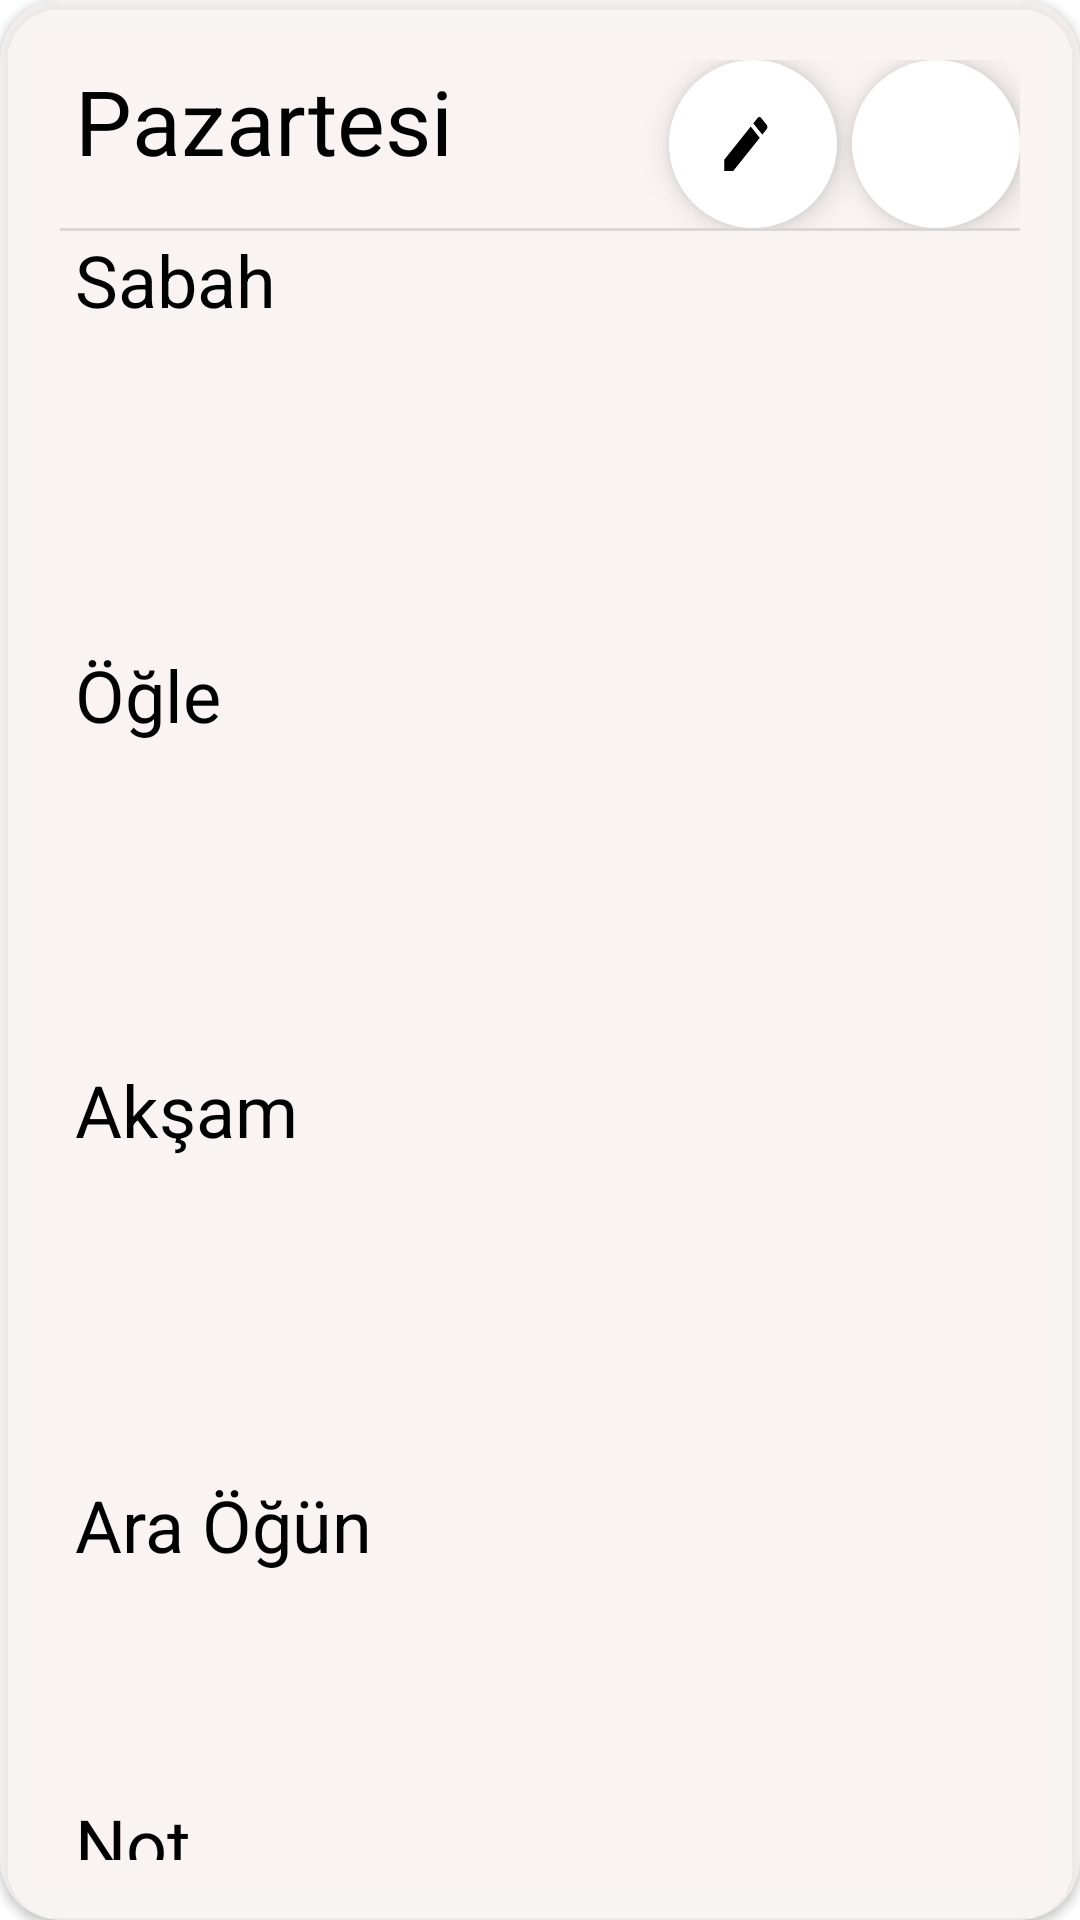

Screen size 1080 × 1920. Icon name, then its center in pixels as point (x, y):
edit: point (753, 144)
